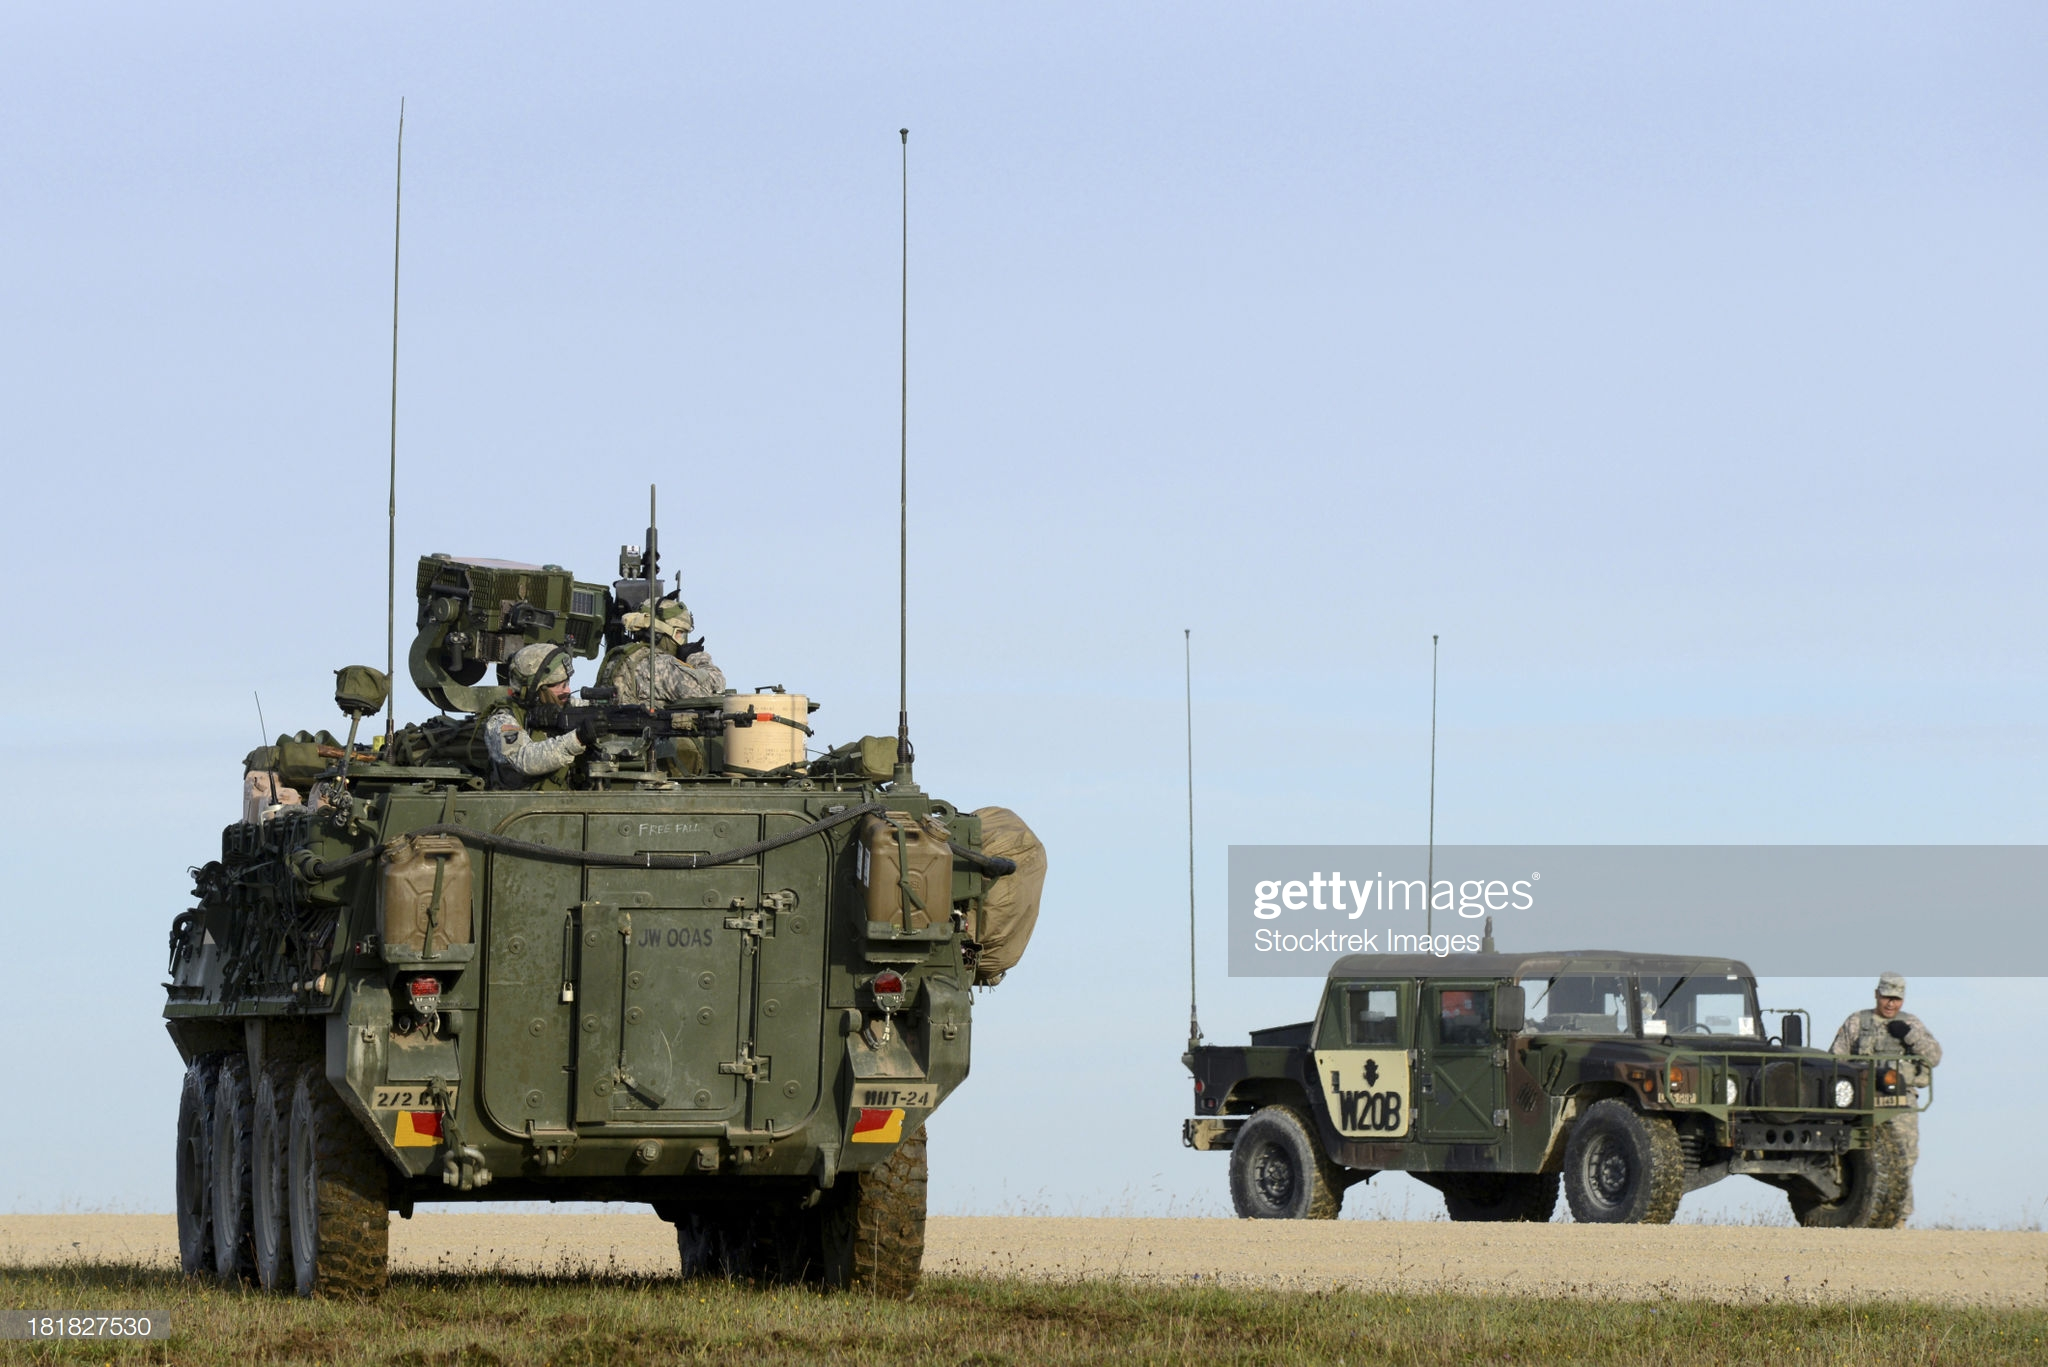hummer: (1202, 958, 1876, 1195)
